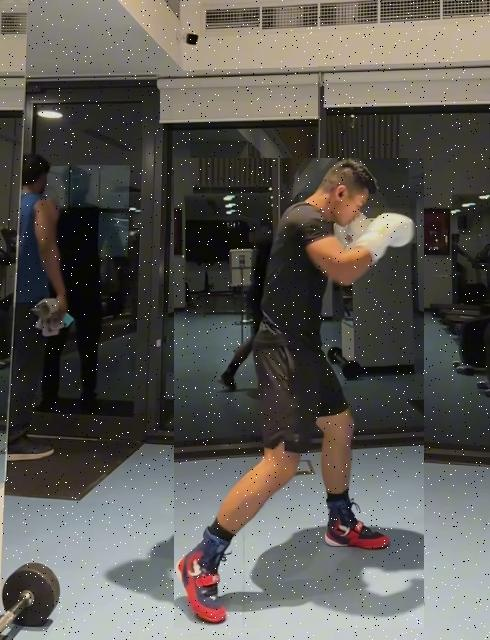punch: (174, 158, 424, 628)
